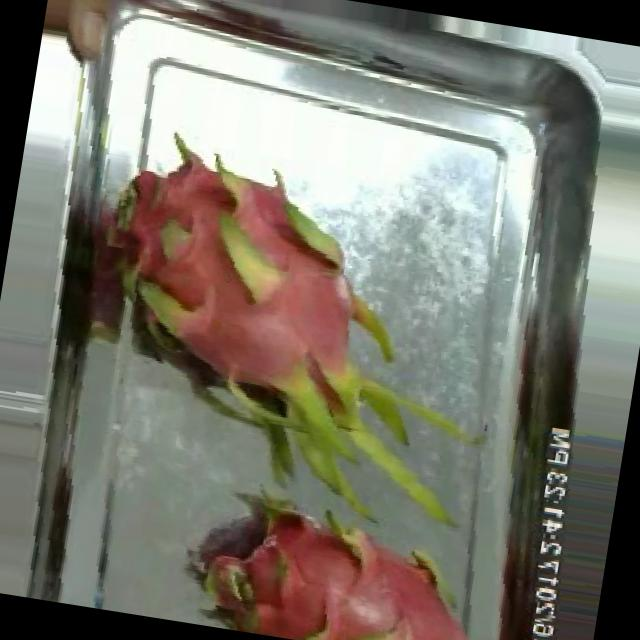Fruit: (172, 480, 383, 640)
